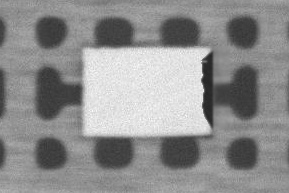DIE_BROKEN: (199, 50, 215, 129)
